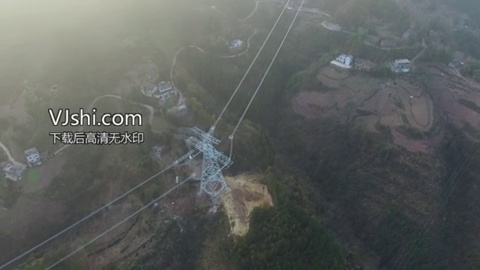tower_body: (180, 122, 236, 207)
tower_foot: (194, 177, 230, 203)
tower_head: (193, 126, 223, 146)
